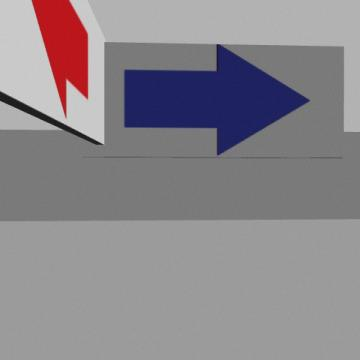blue_right: (124, 45, 309, 154)
red_left: (31, 0, 88, 117)
